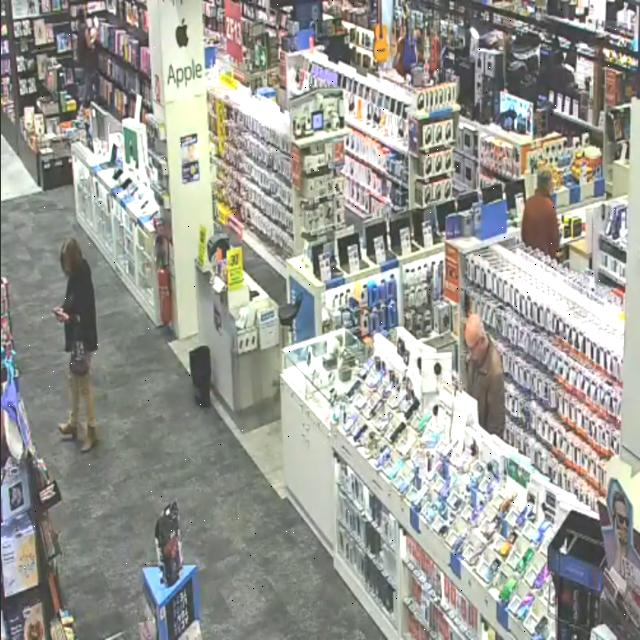bags: (70, 323, 89, 376)
hands: (57, 312, 69, 322), (54, 306, 63, 314)
person: (54, 239, 97, 452), (465, 315, 505, 437), (522, 169, 560, 258)
